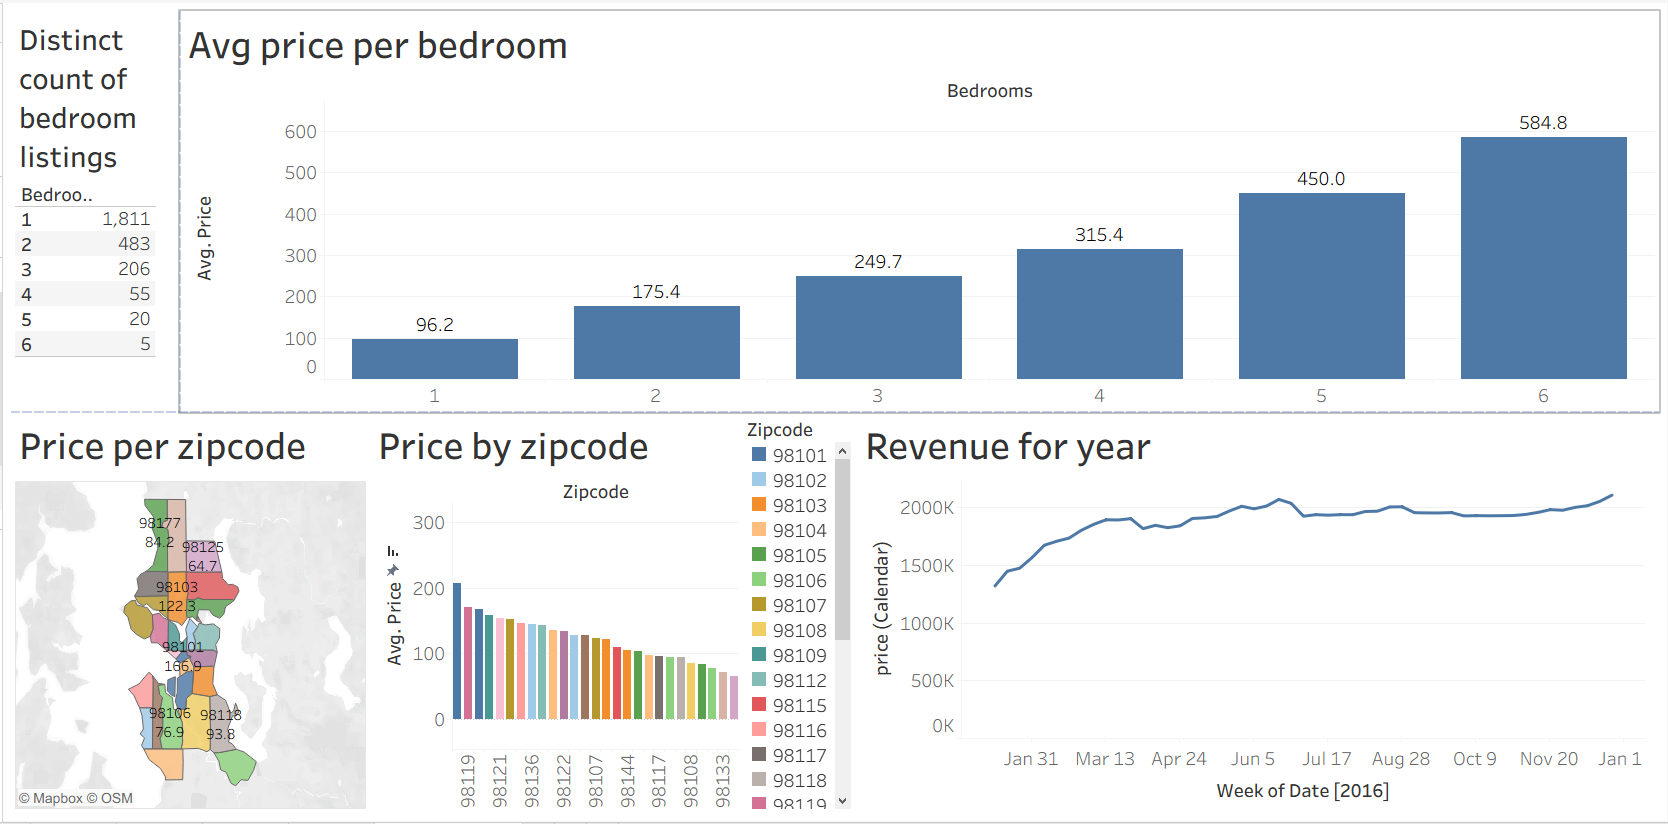

What the dashboard file says about the page in this screenshot:
{"tool":"tableau","page":{"name":"Dashboard 1","canvas":[1000,1000],"units":"permille","ordinal":0},"visuals":[{"type":"worksheet","title":"Sheet 5","mark":"Automatic","rows":["bedrooms"],"box":[5,9.8,264.3,490.2]},{"type":"worksheet","title":"Sheet 4","mark":"Automatic","rows":["price"],"cols":["bedrooms"],"box":[269.3,9.8,725.7,490.2]},{"type":"worksheet","title":"Sheet 2","mark":"Multipolygon","box":[5,500,215.6,490.2]},{"type":"worksheet","title":"Sheet 1","mark":"Automatic","rows":["price"],"cols":["zipcode"],"box":[220.6,500,223.9,490.2]},{"type":"legend","title":"Sheet 1","param":"[federated.1a4ok4m1gj1fj817ugd081oxj8ou].[none:zipcode:ok]","box":[444.5,500,68.6,490.2]},{"type":"worksheet","title":"Sheet 3","mark":"Automatic","rows":["price (Calendar)"],"cols":["date"],"box":[513.1,500,481.9,490.2]}]}

Visuals, with their boxes on the dashboard's canvas, which has no fixed pixel size, in thousandths of its width and height (x1, y1, x2, y2). These are canvas units, not pixel positions in the 1668x824 screenshot, which may show the page scaled, cropped or inside an application window:
"Sheet 5" worksheet: region(5, 10, 269, 500)
"Sheet 4" worksheet: region(269, 10, 995, 500)
"Sheet 2" worksheet (Multipolygon marks): region(5, 500, 221, 990)
"Sheet 1" worksheet: region(221, 500, 444, 990)
"Sheet 1" legend: region(444, 500, 513, 990)
"Sheet 3" worksheet: region(513, 500, 995, 990)
